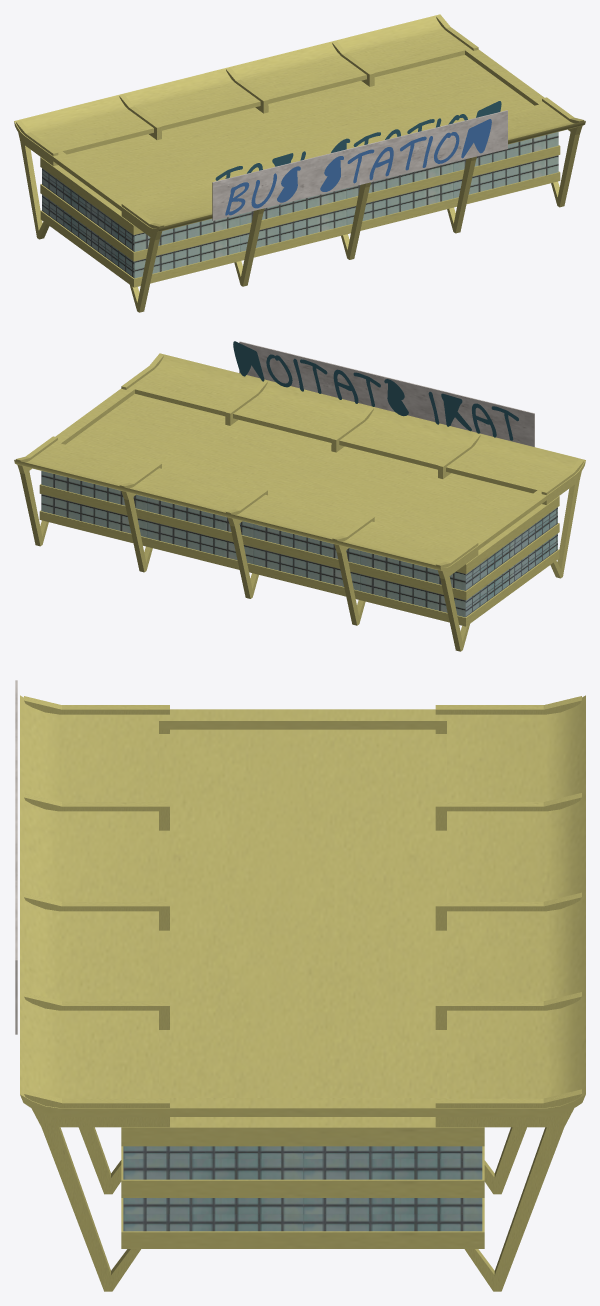
Rendered from BUS STATION.fbx.
3 views of the same model, one above another, from view 1: azimuth 30°, elevation 25°; view 2: azimuth 150°, elevation 25°; view 3: azimuth 270°, elevation 25° (orthographic). The views are drawn at different scales.
Parts seen in each view (by area): view 1: polySurface11, pCube1, polySurface5, typeMesh1; view 2: polySurface11, pCube1, typeMesh1; view 3: polySurface11, pCube1.
Boxes of the visible parts, x1=… form: polySurface11: x1=14, y1=14, x2=585, y2=312; pCube1: x1=212, y1=110, x2=507, y2=220; polySurface5: x1=225, y1=119, x2=491, y2=215; typeMesh1: x1=215, y1=101, x2=501, y2=180; polySurface11: x1=14, y1=353, x2=585, y2=651; pCube1: x1=239, y1=341, x2=534, y2=446; typeMesh1: x1=233, y1=341, x2=518, y2=440; polySurface11: x1=20, y1=695, x2=585, y2=1291; pCube1: x1=15, y1=680, x2=17, y2=1034.
Bounding box in the file's own units: 3362 × 1053 × 2006.
2 materials, 2 textured.
